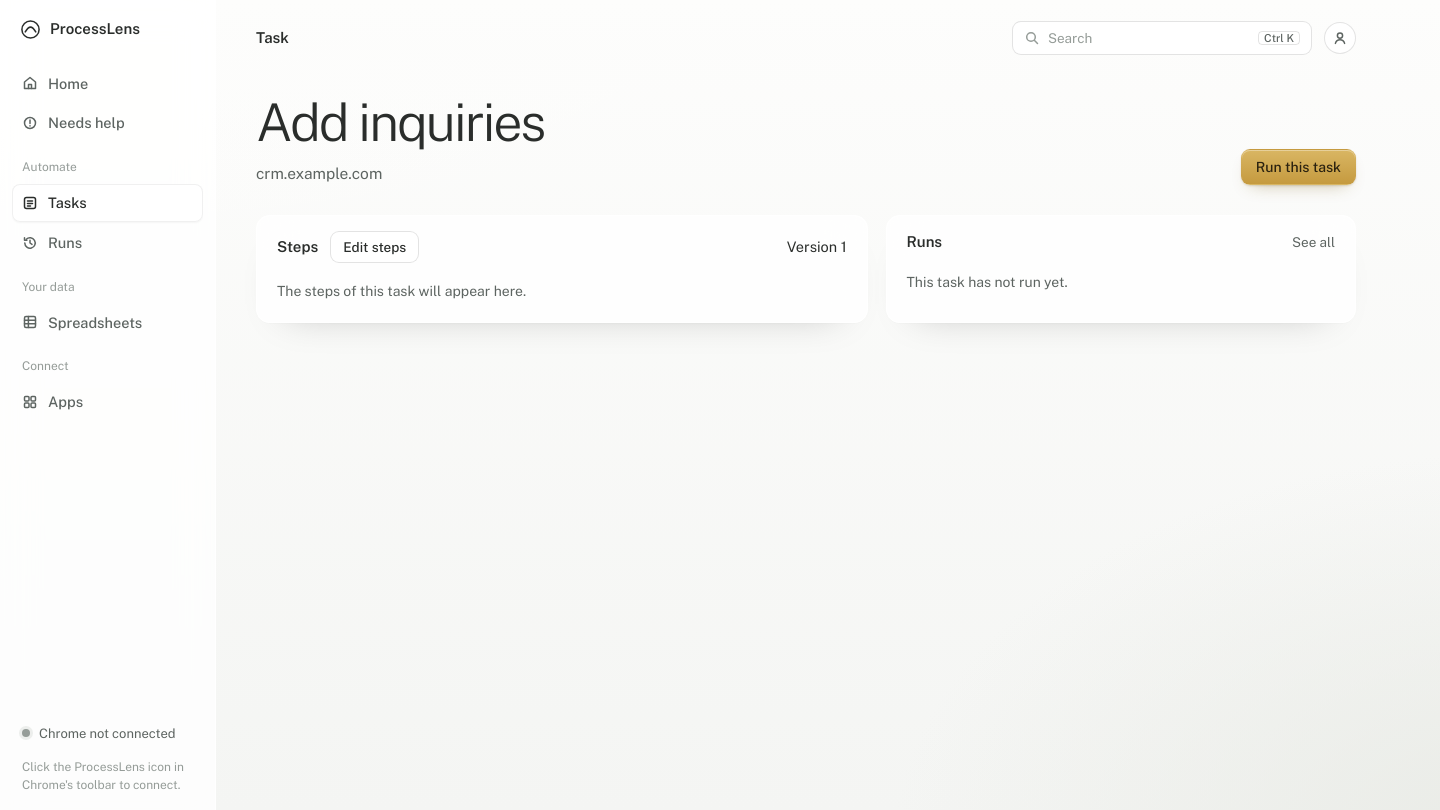
when there is nothing to say › says nothing when the read fails, and the run control still opens the run flow
Click the link "Run this task": point(1298, 167) [1241,149,1356,185]
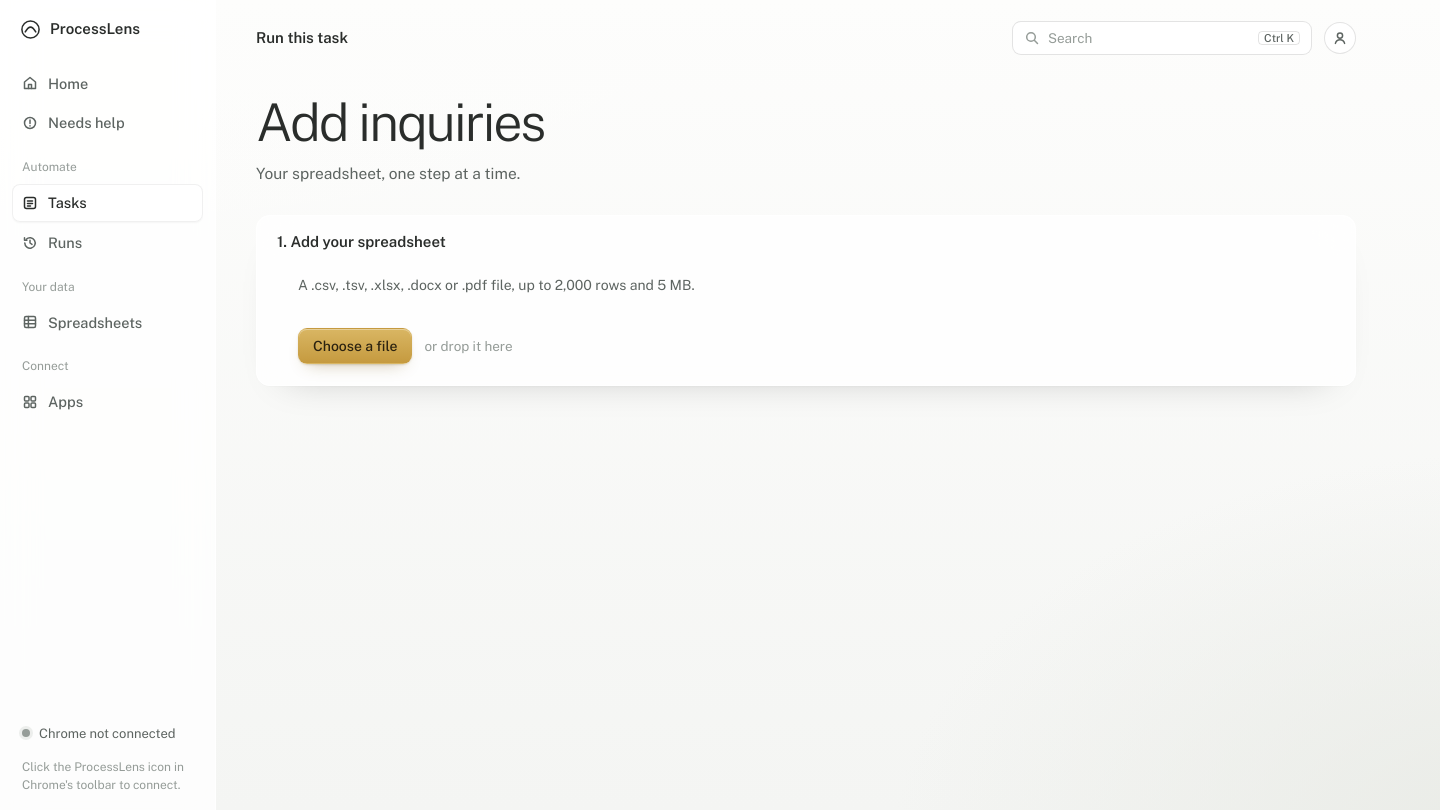
Expected: the heading "1. Add your spreadsheet" is shown, [277,231,446,254]
